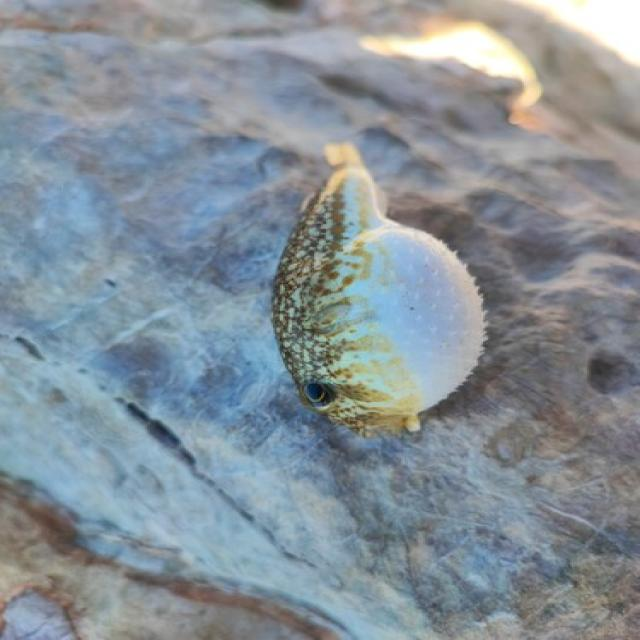Balik: (274, 144, 484, 435)
